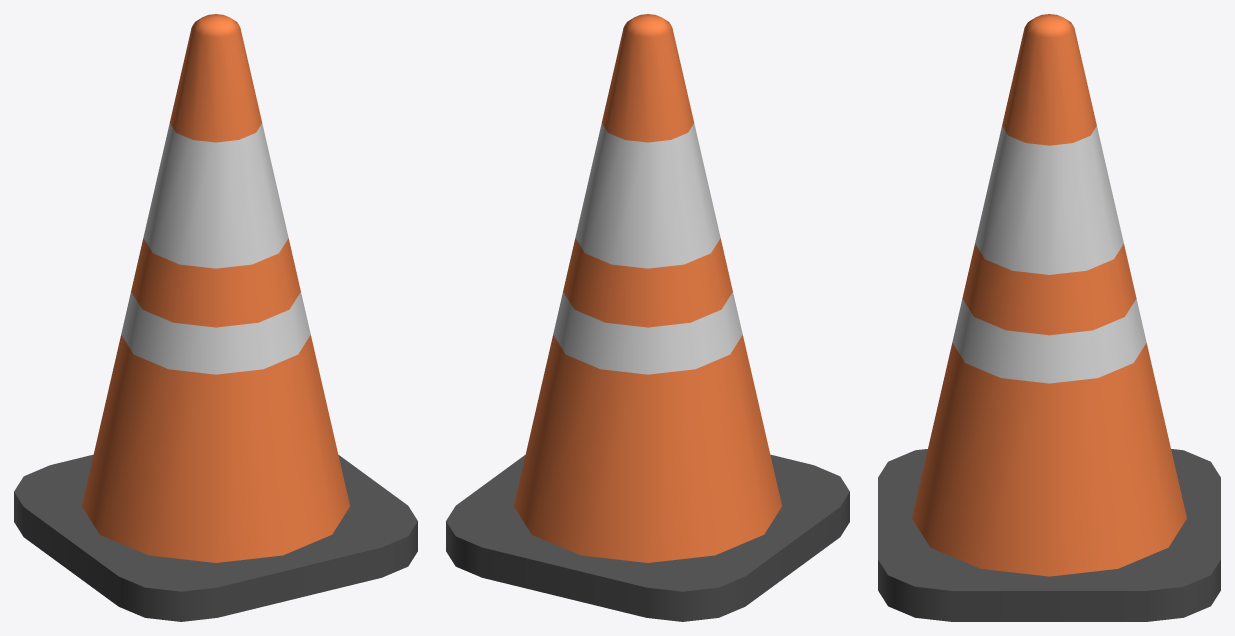
Rendered from TrafficCone.fbx.
3 renders of one model, left to right at view 1: azimuth 30°, elevation 25°; view 2: azimuth 150°, elevation 25°; view 3: azimuth 270°, elevation 25°, orthographic. The views are drawn at different scales.
Visible parts, largest first — view 1: TrafficCone; view 2: TrafficCone; view 3: TrafficCone.
Boxes of the visible parts, x1,y1,x2,y2 form: TrafficCone: [14, 14, 417, 621]; TrafficCone: [446, 14, 849, 621]; TrafficCone: [878, 14, 1220, 621].
Bounding box in the file's own units: 50 × 85.5 × 50.
